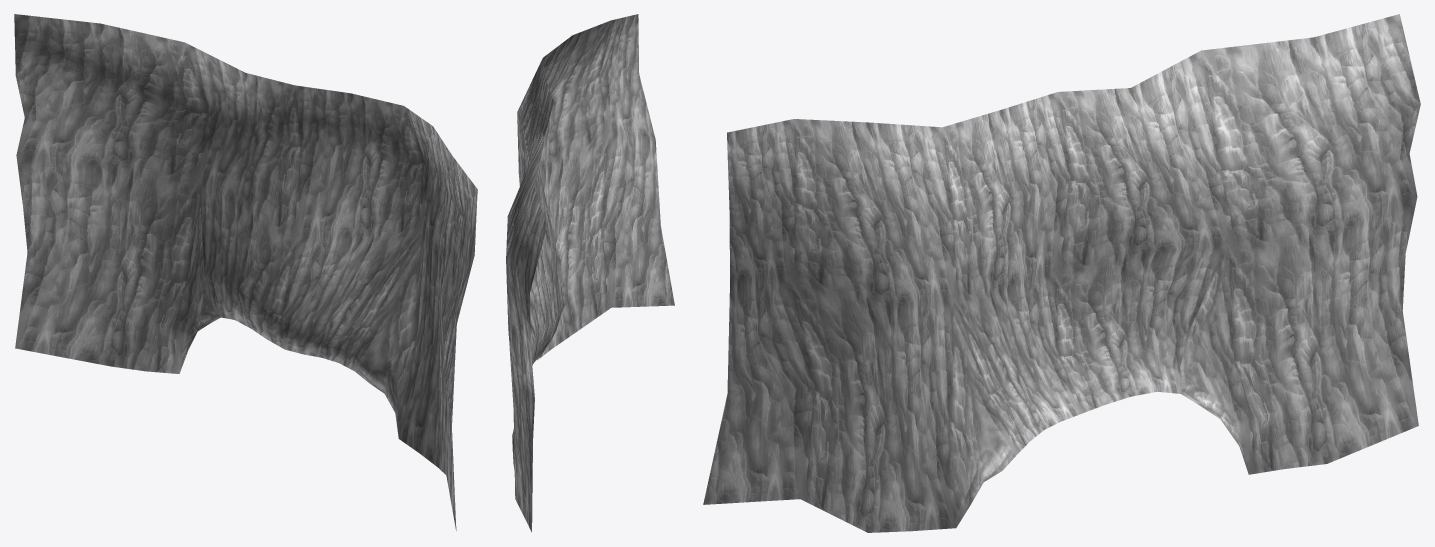
File: SWORDLIGHT20_PS-AREA03_164.fbx
3 views of the same model, side by side, from view 1: azimuth 30°, elevation 25°; view 2: azimuth 150°, elevation 25°; view 3: azimuth 270°, elevation 25° (orthographic). The views are drawn at different scales.
Visible parts, largest first — view 1: SWORDLIGHT20_PS-AREA03_164; view 2: SWORDLIGHT20_PS-AREA03_164; view 3: SWORDLIGHT20_PS-AREA03_164.
Boxes of the visible parts, x1,y1,x2,y2 form: SWORDLIGHT20_PS-AREA03_164: [14, 14, 477, 530]; SWORDLIGHT20_PS-AREA03_164: [506, 14, 674, 532]; SWORDLIGHT20_PS-AREA03_164: [703, 14, 1420, 532].
Size of the model in its own units: 109589 by 169241 by 258847.
Materials: 2 (2 with a texture image).
